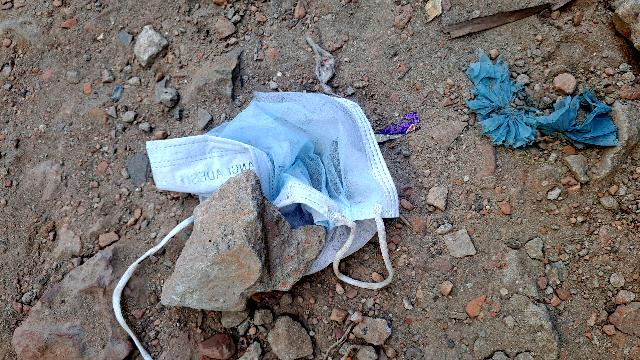mask: (147, 79, 401, 253)
